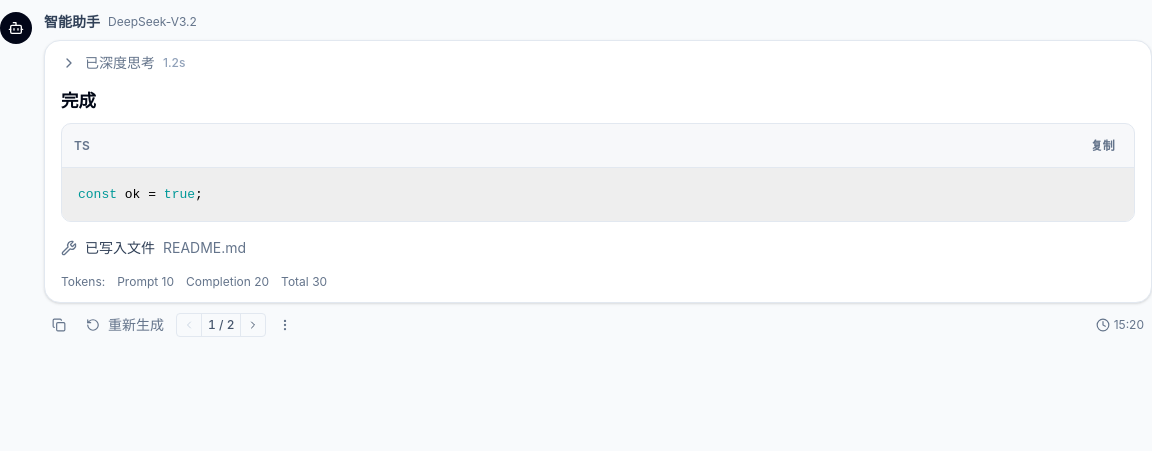
ChatMessageItem › closes the more menu when clicking outside
Step 1. Click the button named "更多操作" → (286, 326), box [270,312,300,340]
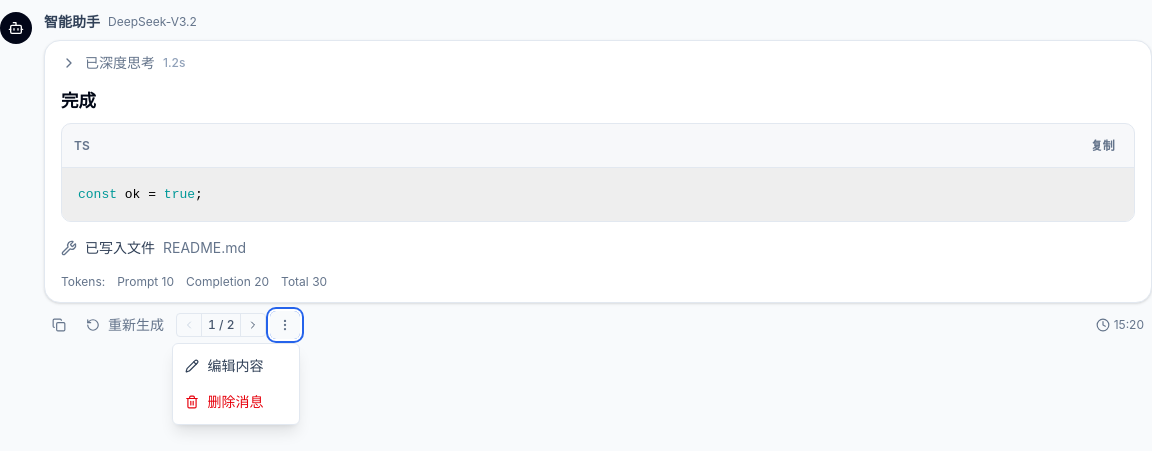
Now the menu named "更多消息操作" is shown, box [172,344,300,426]
Step 2. Click the text "智能助手" → (72, 22), box [44,12,100,32]
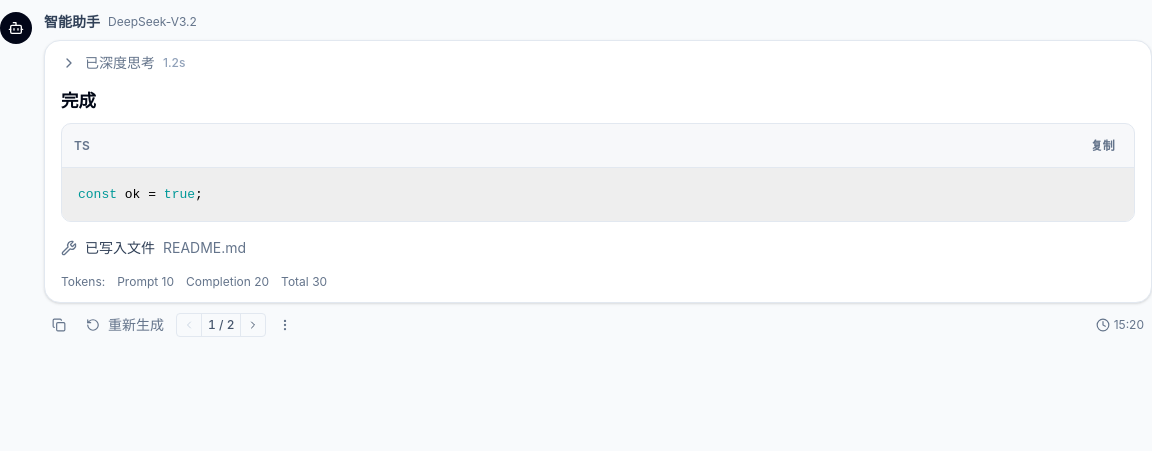
Now the menu "更多消息操作" is gone
